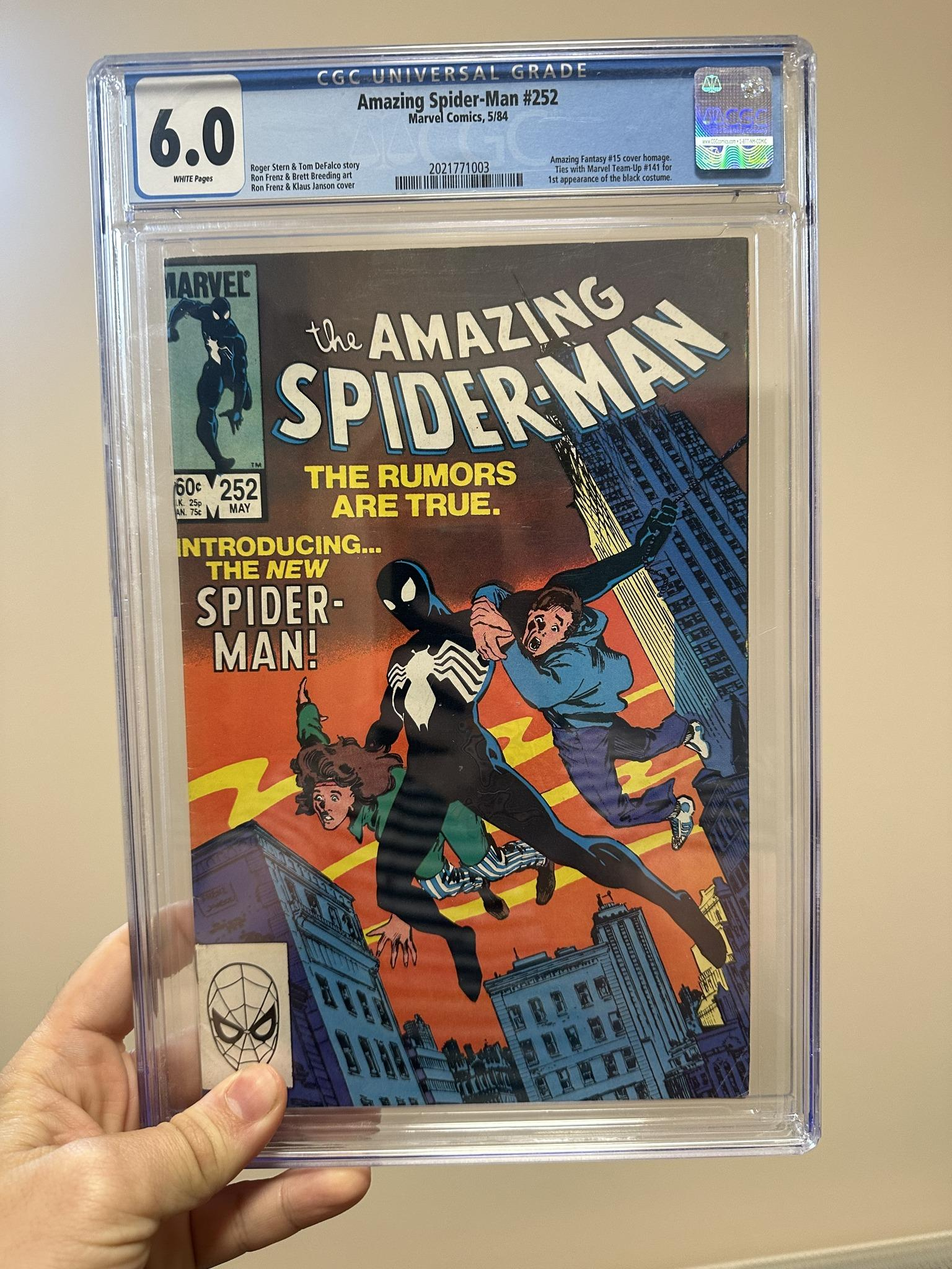comic: (165, 238, 774, 1114)
